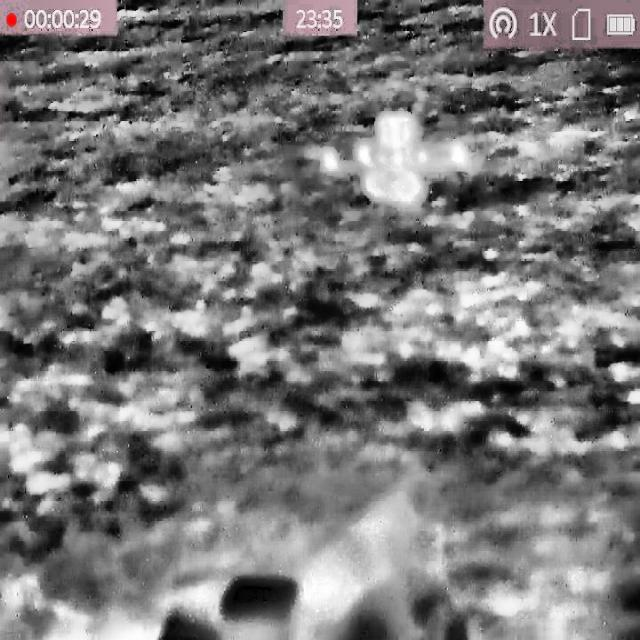drone: (322, 111, 471, 208)
